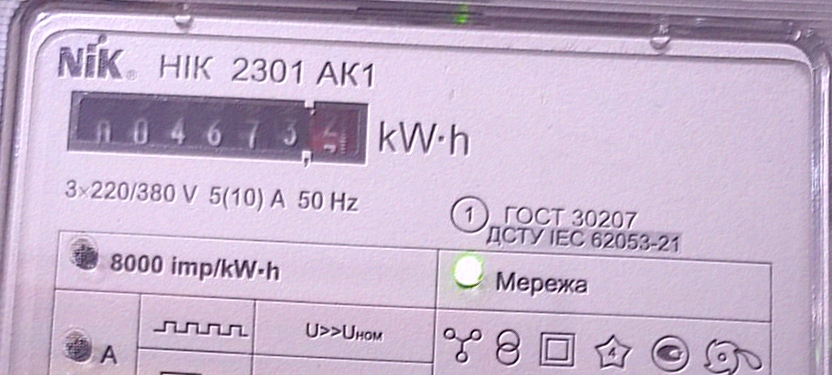0: (92, 115, 113, 146), (130, 115, 149, 147)
2: (319, 107, 341, 140)
3: (280, 115, 298, 149)
4: (168, 112, 187, 148)
6: (202, 114, 224, 149)
7: (240, 116, 263, 154)
screen: (61, 85, 373, 175)
